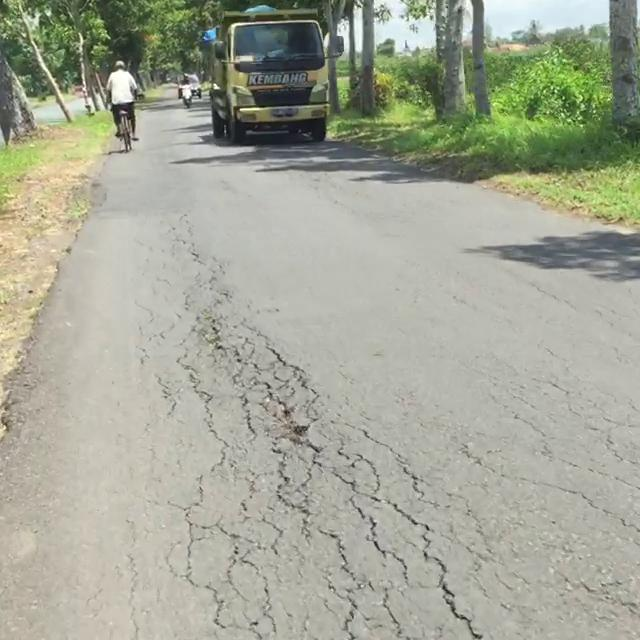retak_kulit_buaya: (140, 258, 457, 640), (550, 429, 640, 640)
